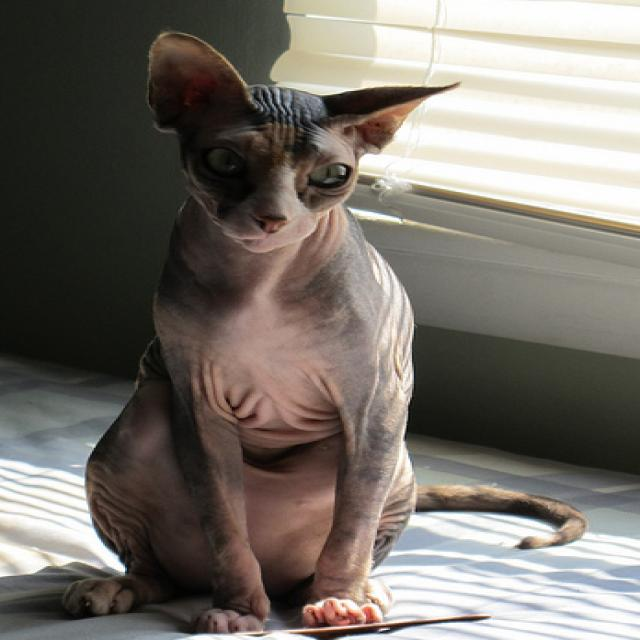Sphynx: (54, 25, 592, 637)
